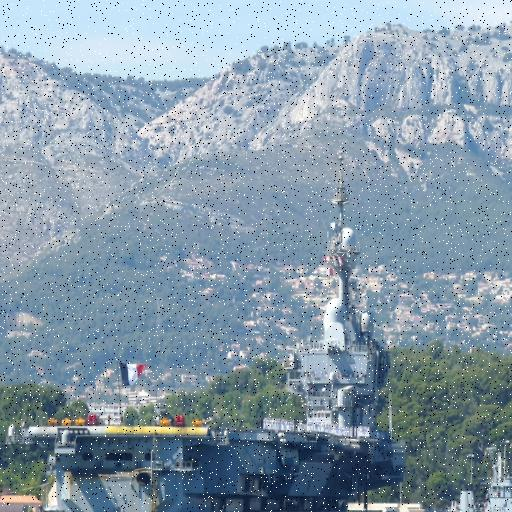Portanaves: (25, 150, 392, 512)
